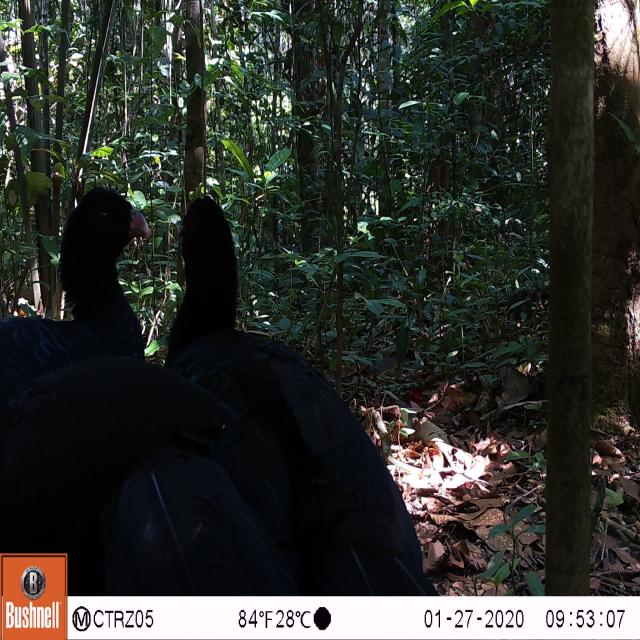Salvins Curassow: (161, 185, 447, 593), (0, 180, 167, 588)
